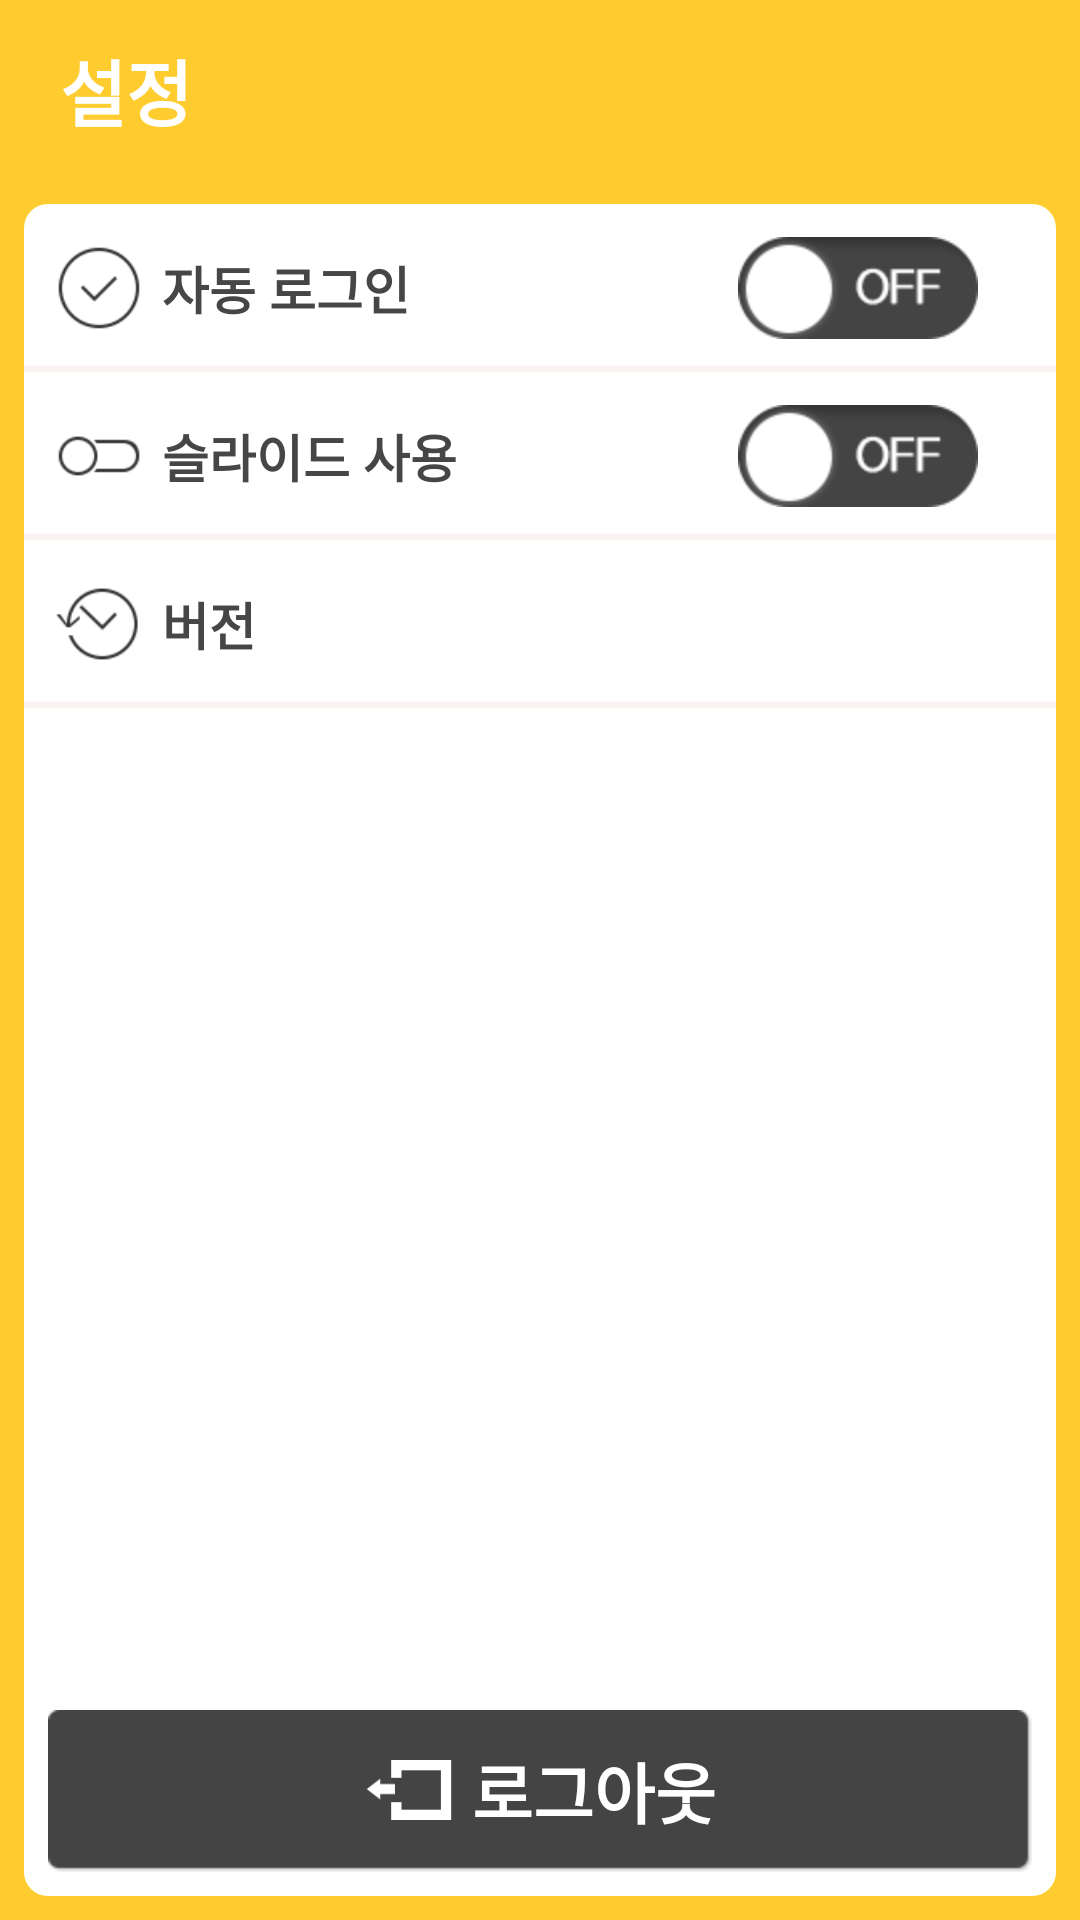

Locate icon controls on the screen. Image size 1080w x 1920h, boxes as box(x1, y1, x2, y2).
setting autologin: box(58, 247, 140, 329)
setting slide: box(58, 436, 140, 476)
